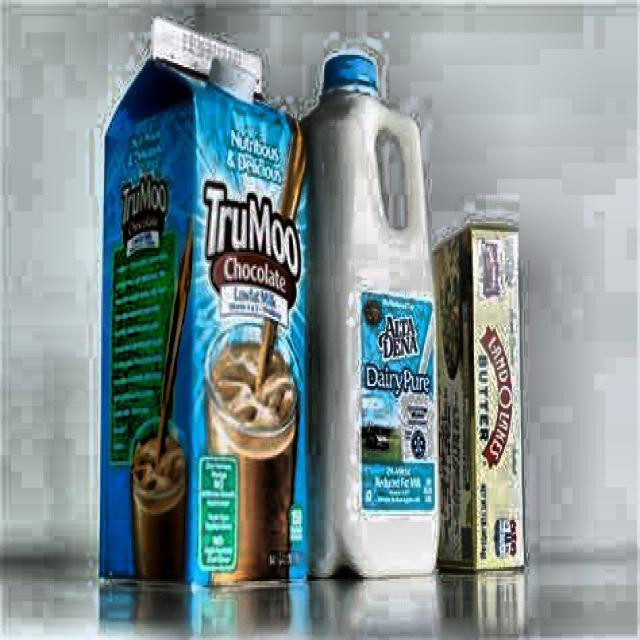cardboard: (430, 221, 526, 571)
